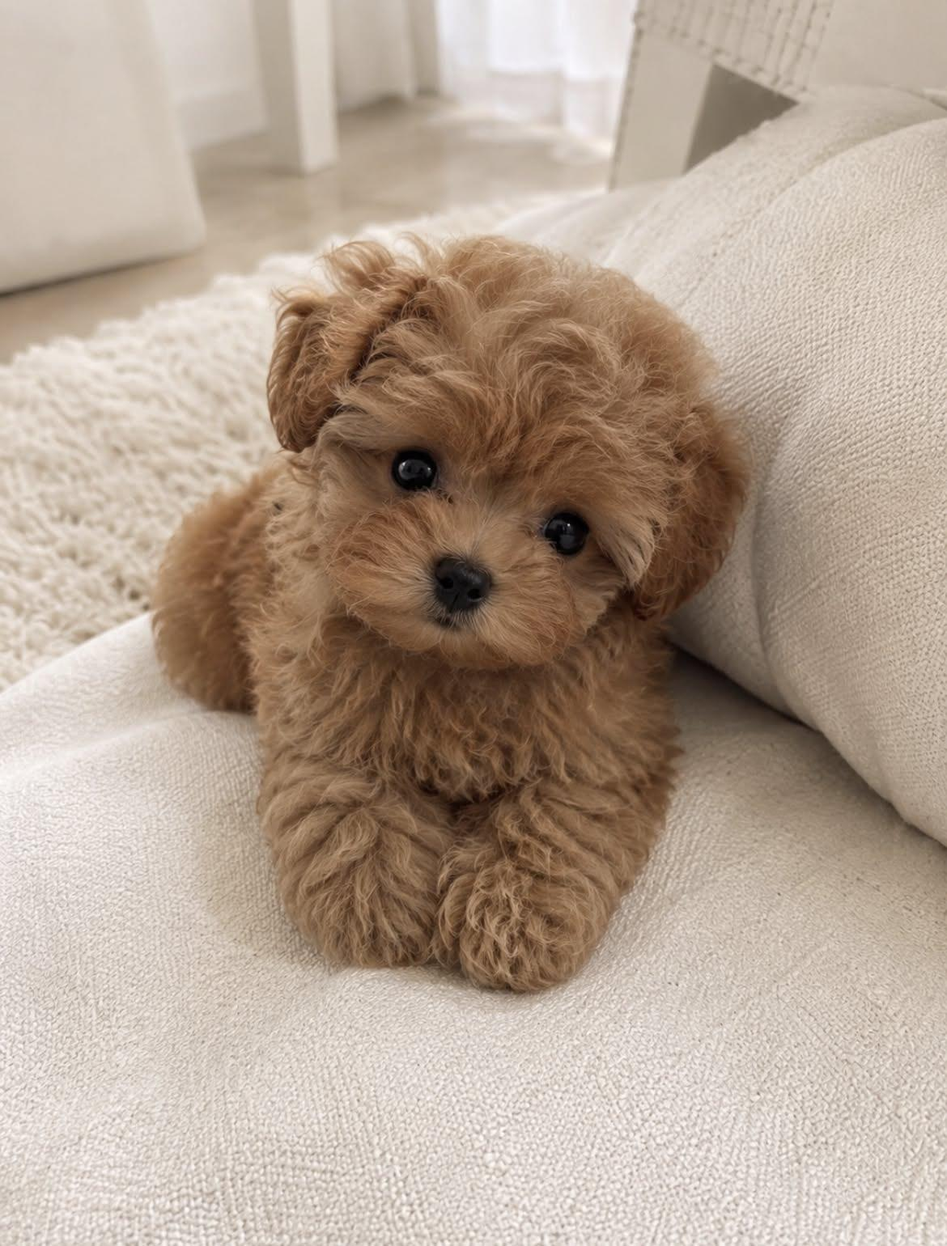puppy-dog: (148, 228, 760, 996)
